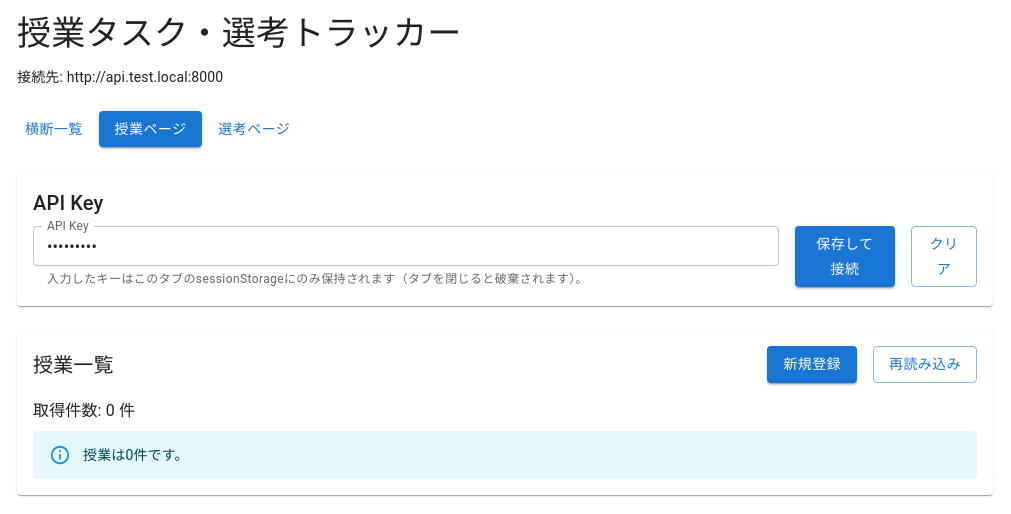
API Keyを入力しての疎通 › クリアすると保持したキーを破棄して未入力状態に戻る
Check: the element named "授業管理" is shown, box [17, 330, 993, 495]
Check: the text "取得件数: 0 件" is shown, box [33, 401, 135, 420]
Click the button "クリア": (944, 257) [911, 226, 977, 287]
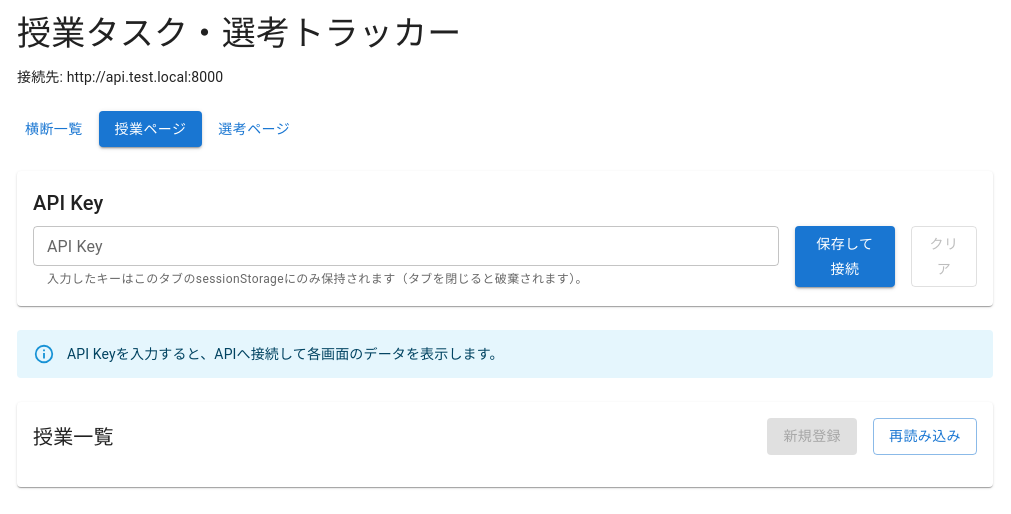
Check: the text "API Keyを入力すると、APIへ接続して各画面のデータを表示します。" is shown, box [67, 346, 504, 362]
